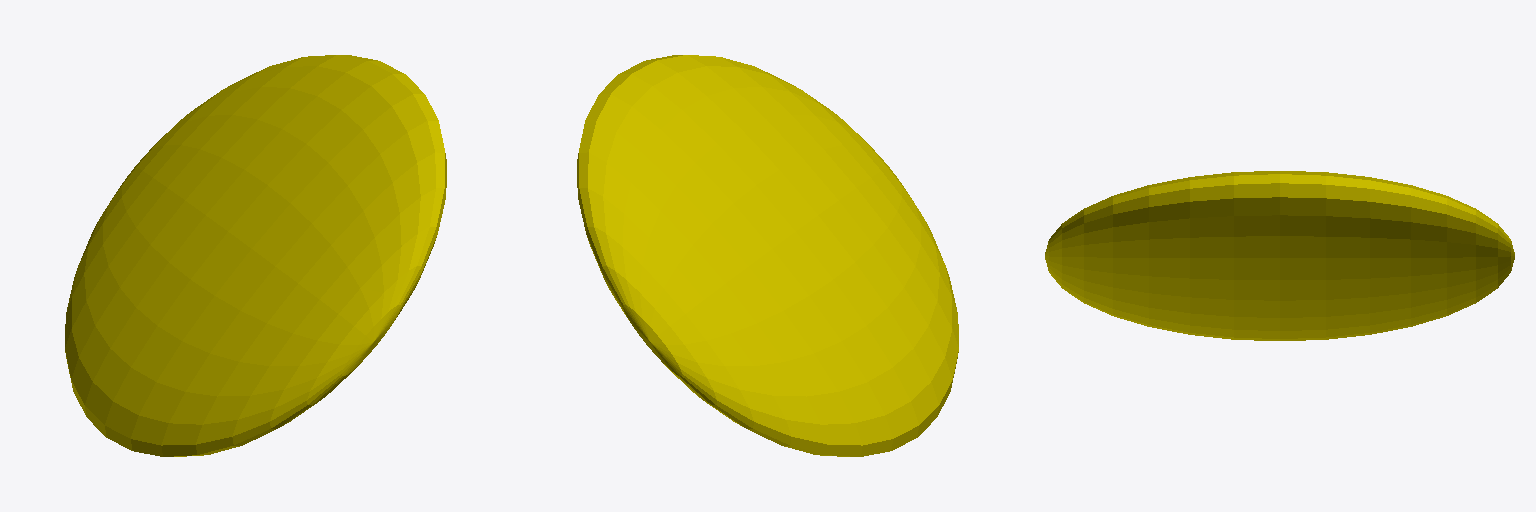
File: coin003.obj
3 views of the same model, side by side, from view 1: azimuth 30°, elevation 25°; view 2: azimuth 150°, elevation 25°; view 3: azimuth 270°, elevation 25° (orthographic).
Parts seen in each view (by area): view 1: Coin.003_Sphere.004; view 2: Coin.003_Sphere.004; view 3: Coin.003_Sphere.004.
Boxes of the visible parts, x1=… form: Coin.003_Sphere.004: x1=65, y1=55, x2=446, y2=456; Coin.003_Sphere.004: x1=577, y1=55, x2=958, y2=456; Coin.003_Sphere.004: x1=1045, y1=171, x2=1514, y2=340.
Size of the model in its own units: 0.7417 by 0.6966 by 1.